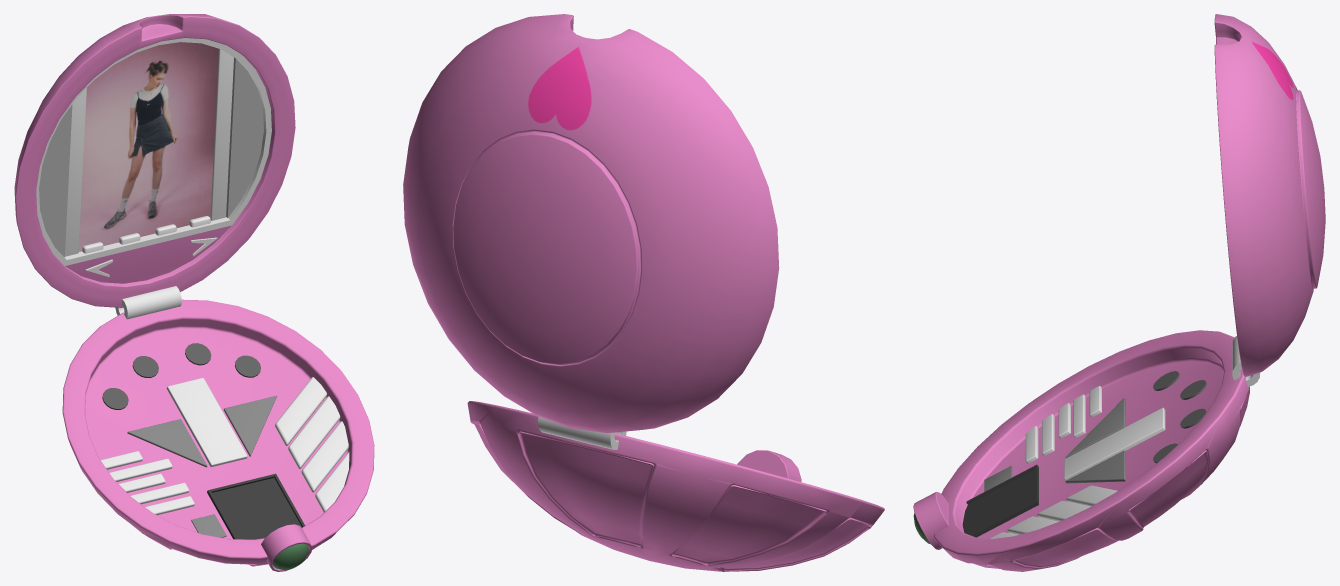
The model's file is totallyspace.glb.
The picture shows the model from 3 angles, left to right: view 1: azimuth 30°, elevation 25°; view 2: azimuth 150°, elevation 25°; view 3: azimuth 270°, elevation 25°; orthographic projection. The views are drawn at different scales.
Parts seen in each view (by area): view 1: Sphere, фото, Sphere_Cylinder_1, ЭКРАН, кнопка_экран, Cylinder_2_3, низ, Cube_2_4, Cylinder_4, Cube_1_3, Cube_4_2, Polygon (+17 smaller); view 2: Sphere_Cylinder_1, Sphere, Cylinder_3_2, Tube; view 3: Sphere, Sphere_Cylinder_1, кнопка_экран, Cube_2_4, Cylinder_3_2, Polygon_4, Polygon, Cube_1, Cube_3_2, Cube.
Boxes of the visible parts, x1,y1,x2,y2 form: Sphere: (62,299,374,566); фото: (78,42,218,251); Sphere_Cylinder_1: (14,14,295,307); ЭКРАН: (36,38,271,265); кнопка_экран: (207,473,304,539); Cylinder_2_3: (226,57,263,217); низ: (65,225,230,283); Cube_2_4: (166,377,247,466); Cylinder_4: (39,104,72,257); Cube_1_3: (210,49,233,220); Cube_4_2: (65,88,86,256); Polygon: (127,419,207,467); Sphere_Cylinder_1: (403,14,779,433); Sphere: (467,401,884,571); Cylinder_3_2: (737,450,801,481); Tube: (538,417,626,449); Sphere: (934,330,1249,571); Sphere_Cylinder_1: (1214,14,1325,376); кнопка_экран: (962,464,1038,537); Cube_2_4: (1064,407,1165,480); Cylinder_3_2: (913,492,948,549); Polygon_4: (1065,450,1125,483); Polygon: (1065,397,1125,458); Cube_1: (1037,501,1090,521); Cube_3_2: (1066,485,1117,506); Cube: (1073,394,1085,438).
Bounding box in the file's own units: 7.36 × 11.62 × 8.38.
10 materials, 2 textured.
